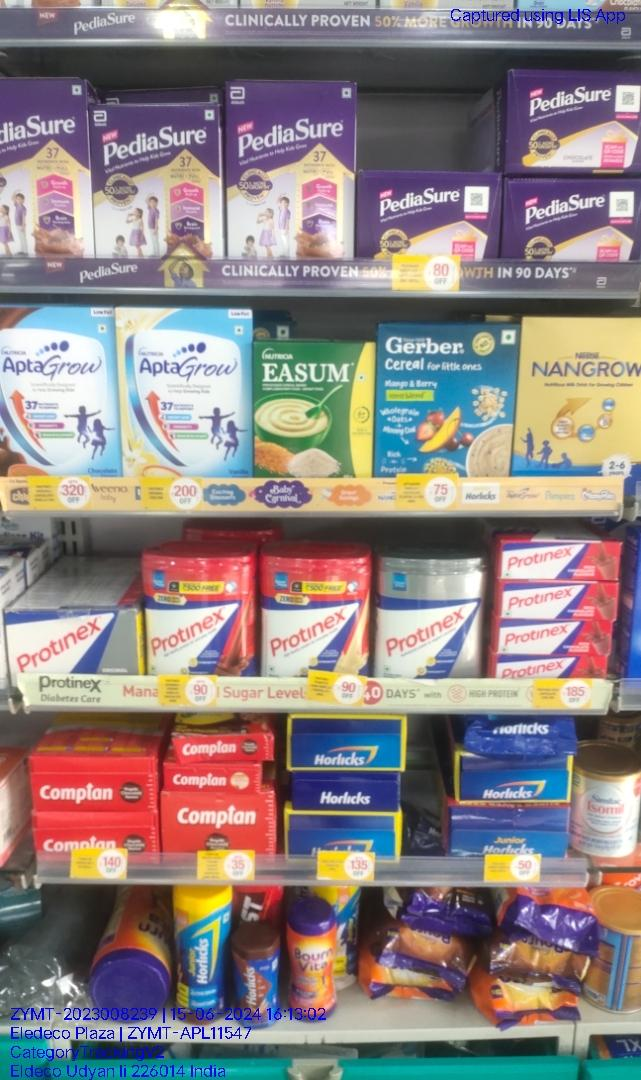BOURN_VITA_200_G_JAR: (287, 909, 337, 1020)
HORLICK_CHOCOLATE_200_G_JAR: (233, 935, 281, 1033)
PEDIASURE_CHOCOLATE_500_G_PACK: (227, 83, 352, 259)
PROTINEX_CHOCOLATE_400_G_JAR: (146, 556, 253, 678)
PROTINEX_ORIGINAL_400_G_JAR: (376, 555, 485, 678)
PROTINEX_VANILLA_400_G_JAR: (260, 555, 370, 671)
